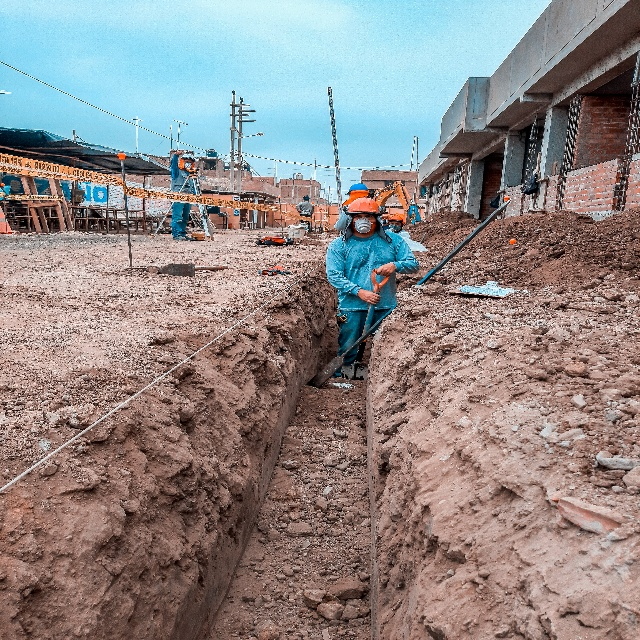Mascara: (351, 217, 376, 235), (389, 224, 401, 232), (184, 162, 192, 170), (381, 219, 388, 225)
Sin_guantes: (357, 289, 382, 305), (376, 263, 396, 276), (174, 150, 183, 156)
